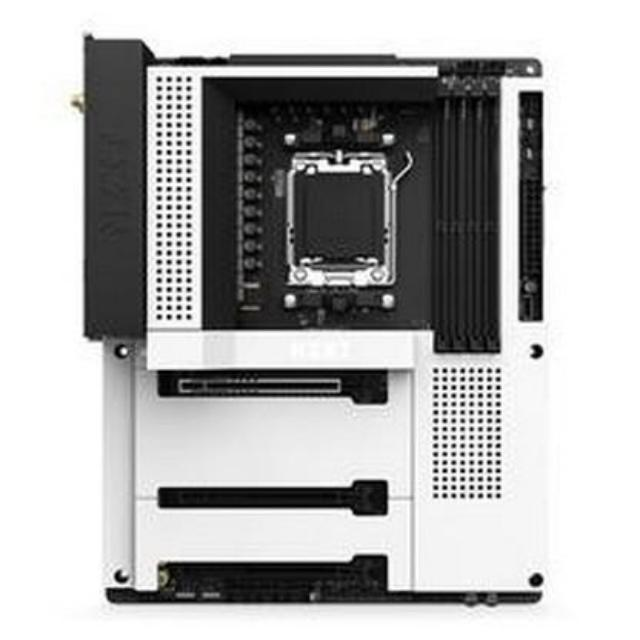Mainboard: (76, 30, 550, 621)
